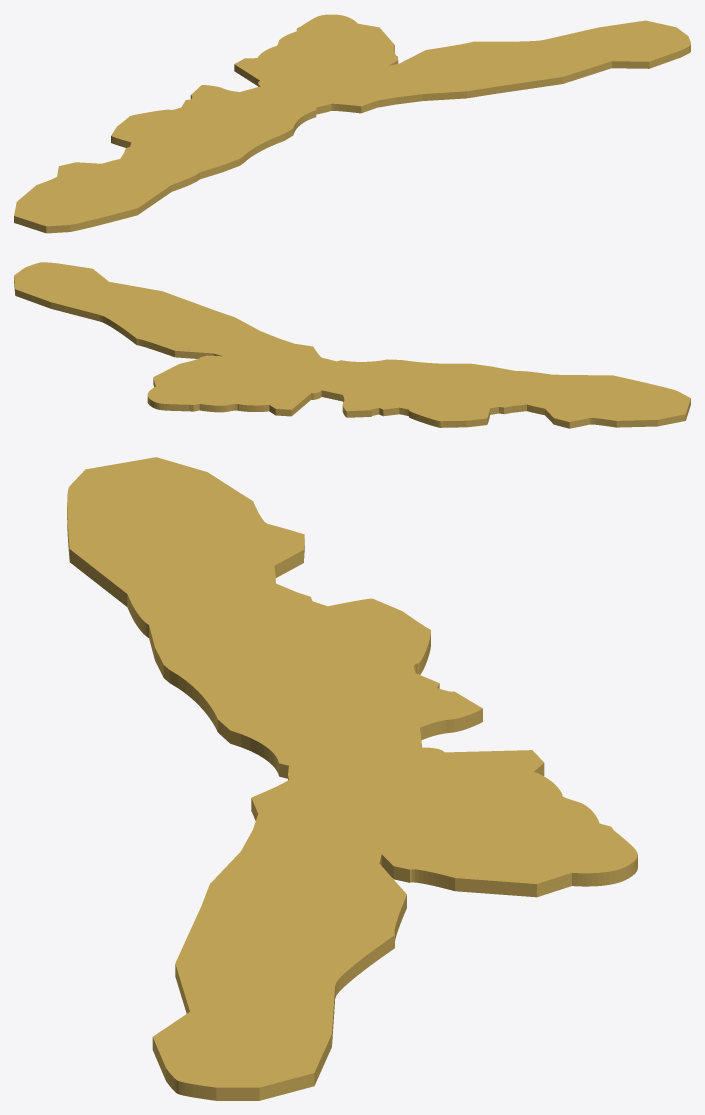
The picture shows the model from 3 angles, top to bottom: view 1: azimuth 30°, elevation 25°; view 2: azimuth 150°, elevation 25°; view 3: azimuth 270°, elevation 25°; orthographic projection. The views are drawn at different scales.
Parts seen in each view (by area): view 1: Curve; view 2: Curve; view 3: Curve.
Boxes of the visible parts, left/top/right/bottom form: Curve: left=14, top=14, right=690, bottom=233; Curve: left=14, top=262, right=690, bottom=428; Curve: left=67, top=457, right=637, bottom=1100.
Bounding box in the file's own units: 0.4385 × 0.00429 × 0.1678.
